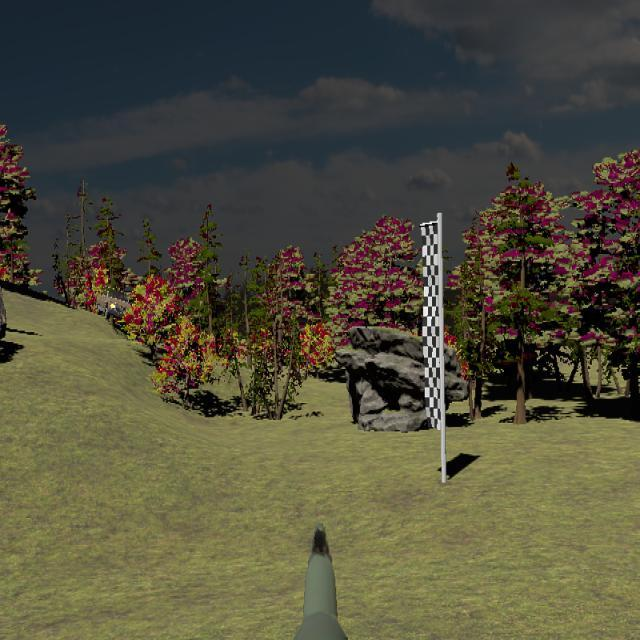car: (96, 287, 134, 321), (0, 285, 7, 347)
